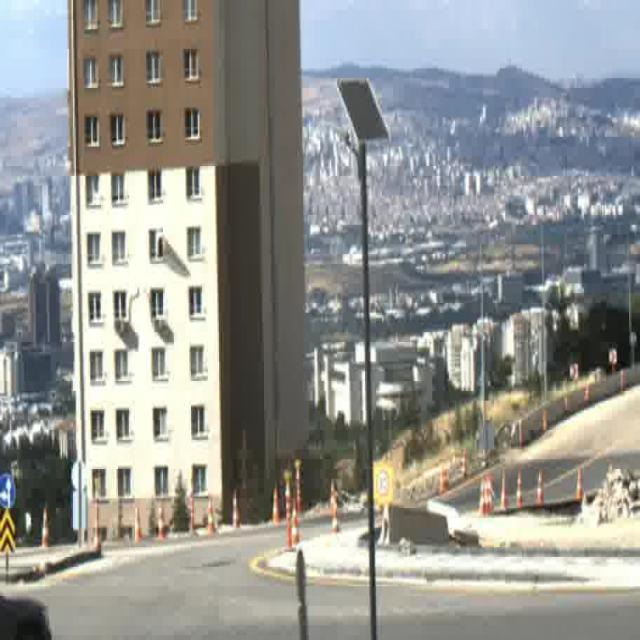Car: (0, 592, 48, 640)
